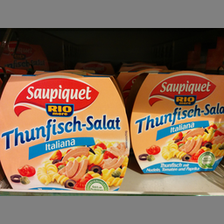fish: (1, 73, 129, 191), (130, 68, 224, 174)
